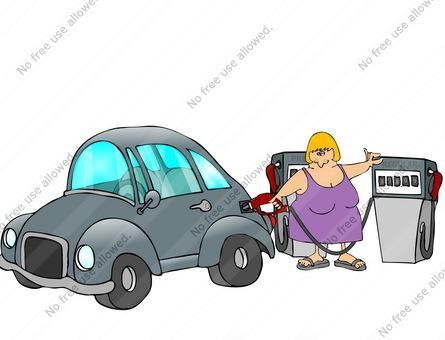car: (2, 121, 274, 311)
person: (281, 132, 376, 273)
